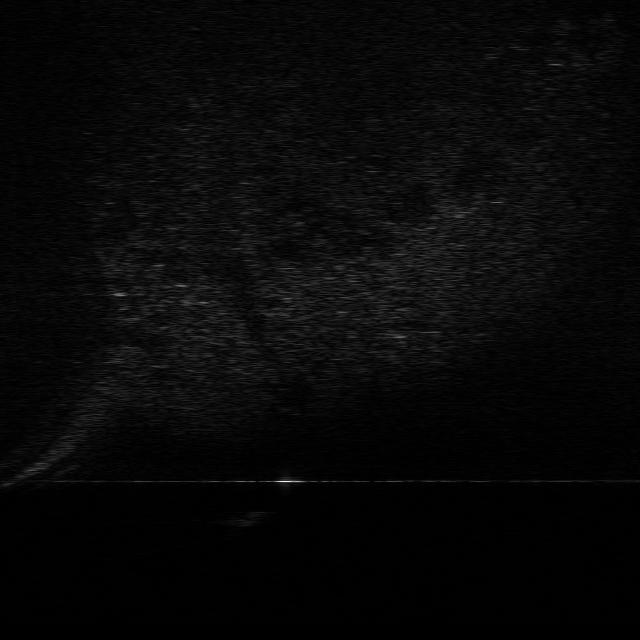cube: (266, 469, 308, 493)
cylinder: (229, 511, 265, 527)
